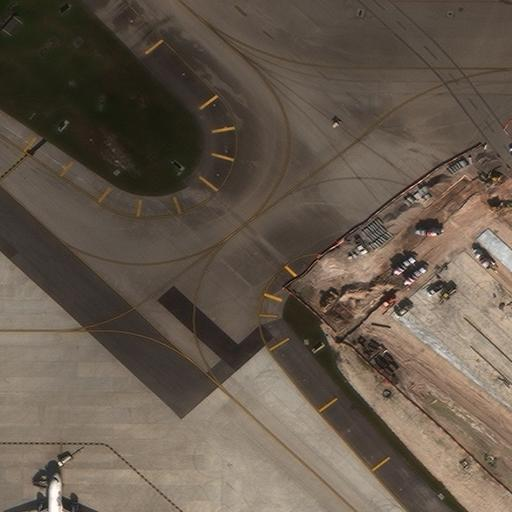Medium Civil Transport: (20, 472, 89, 512)
